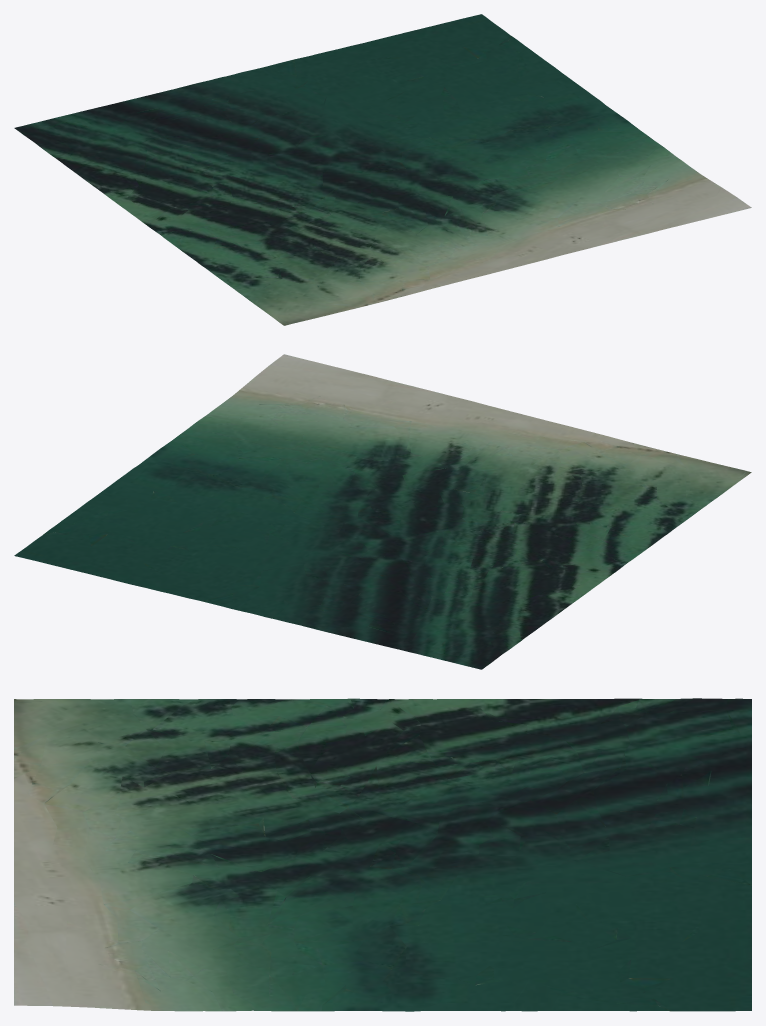
3 renders of one model, top to bottom at view 1: azimuth 30°, elevation 25°; view 2: azimuth 150°, elevation 25°; view 3: azimuth 270°, elevation 25°, orthographic. The views are drawn at different scales.
Bounding box in the file's own units: 209 × 1.88 × 209.
3 materials, 3 textured.
